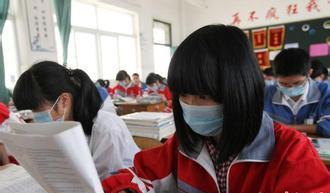OK: (178, 82, 236, 138), (31, 94, 65, 129), (278, 75, 304, 99)
